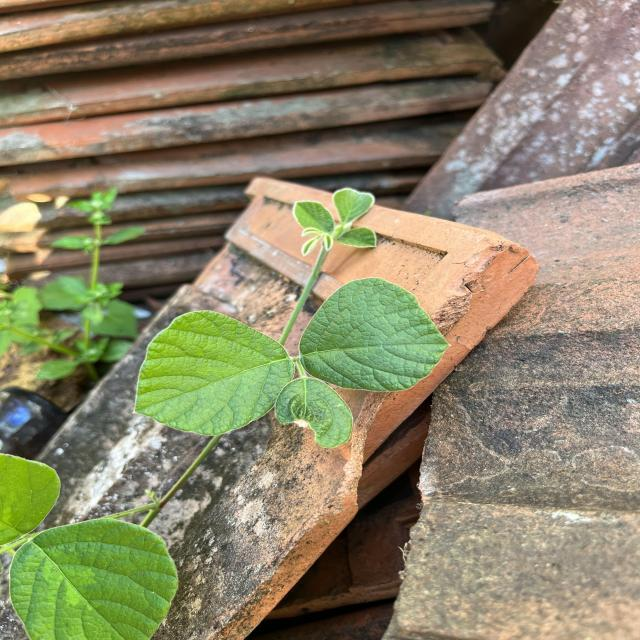Pseudarthria viscida: (131, 274, 455, 450)
